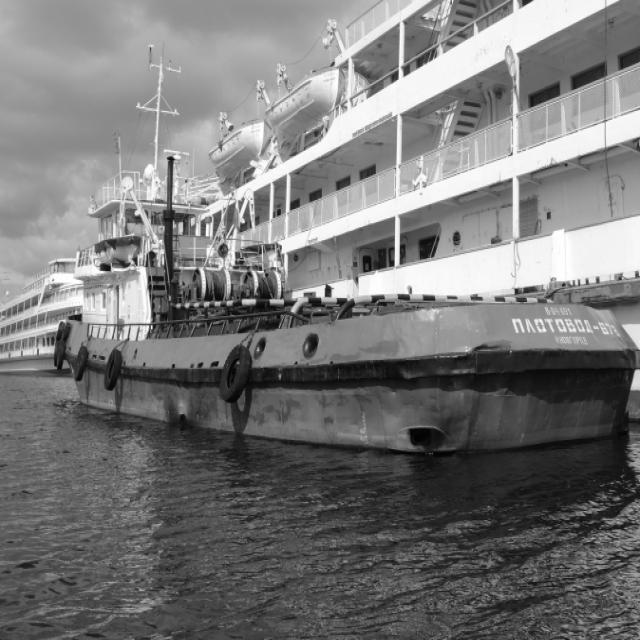tugboat: (55, 150, 640, 474)
